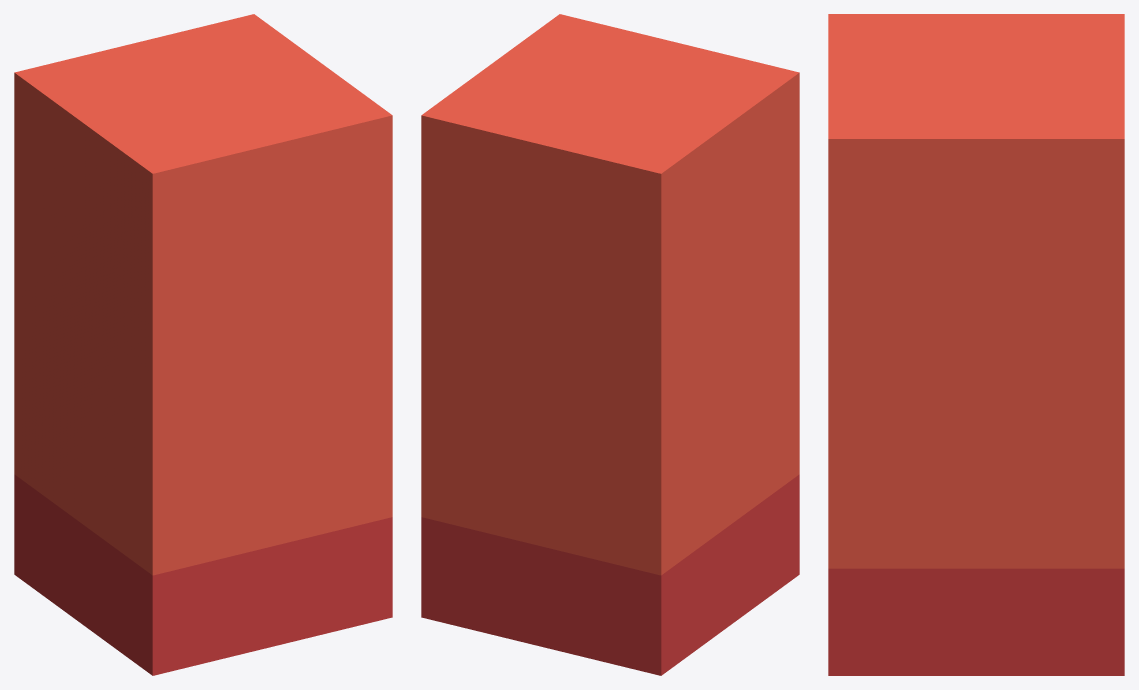
File: building_block4.obj
3 views of the same model, side by side, from view 1: azimuth 30°, elevation 25°; view 2: azimuth 150°, elevation 25°; view 3: azimuth 270°, elevation 25° (orthographic). The views are drawn at different scales.
Parts seen in each view (by area): view 1: mergedBlocks; view 2: mergedBlocks; view 3: mergedBlocks.
Boxes of the visible parts, box(x1,y1,x2,y2) form: mergedBlocks: box(14, 14, 392, 675); mergedBlocks: box(421, 14, 799, 675); mergedBlocks: box(828, 14, 1124, 675).
Size of the model in its own units: 0.5 by 1 by 0.5.
